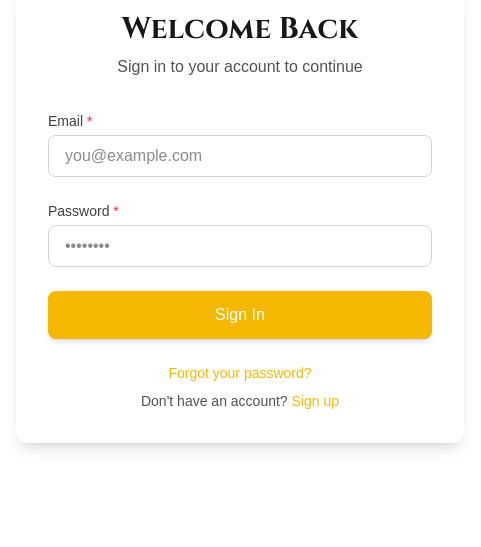
it: LoginForm › displays error message on failed login
This screenshot has width=481, height=547.
expect the button is enabled: met, box left=48, top=291, right=432, bottom=339
Type "test@example.com" into the field labelled "Email *". click: (240, 156)
box: left=48, top=135, right=432, bottom=177
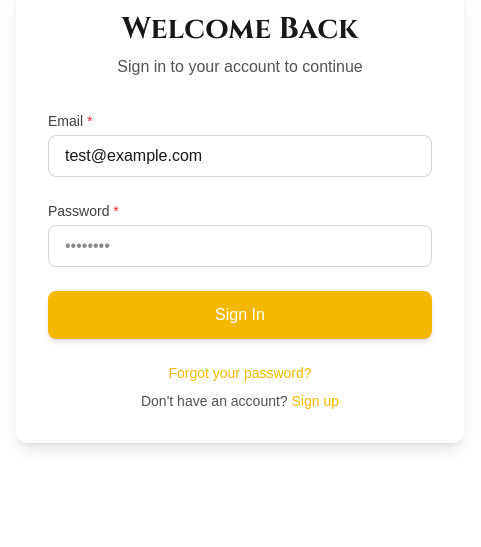
Type "wrong" into the password field labelled "Password *". click: (240, 246)
box: left=48, top=225, right=432, bottom=267
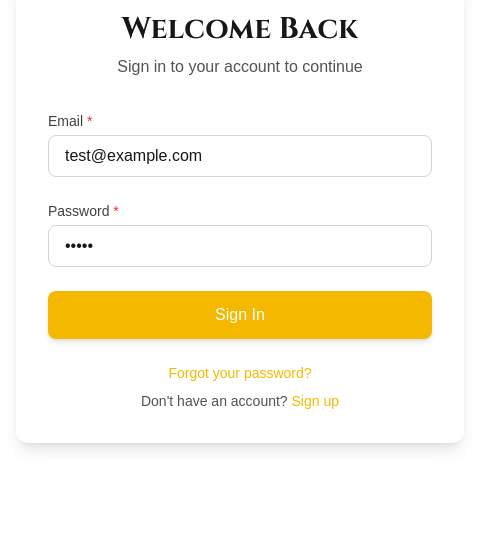
Click the button "Sign In". click: (240, 315)
box: left=48, top=291, right=432, bottom=339
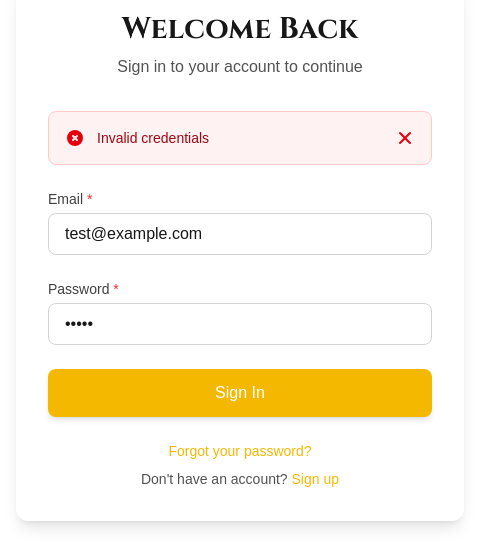
expect the text "Invalid credentials" is shown: met, box left=97, top=130, right=209, bottom=146
